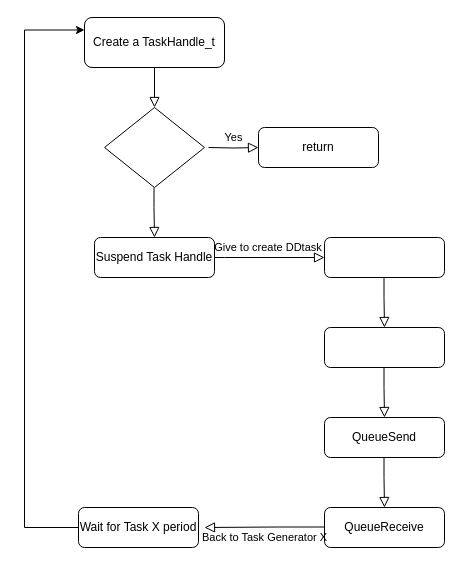
Some shapes in this 462 by 565 pixel diagram are drawn without their labels. The shapes that lost their labels are listed below. From the top down, each one's centre as x and y in pixels, then its label:
At (154,147): "Is Task NULL".
At (384,257): "Create a DD_task_t".
At (384,347): "Copy attributes from Task Handle".
